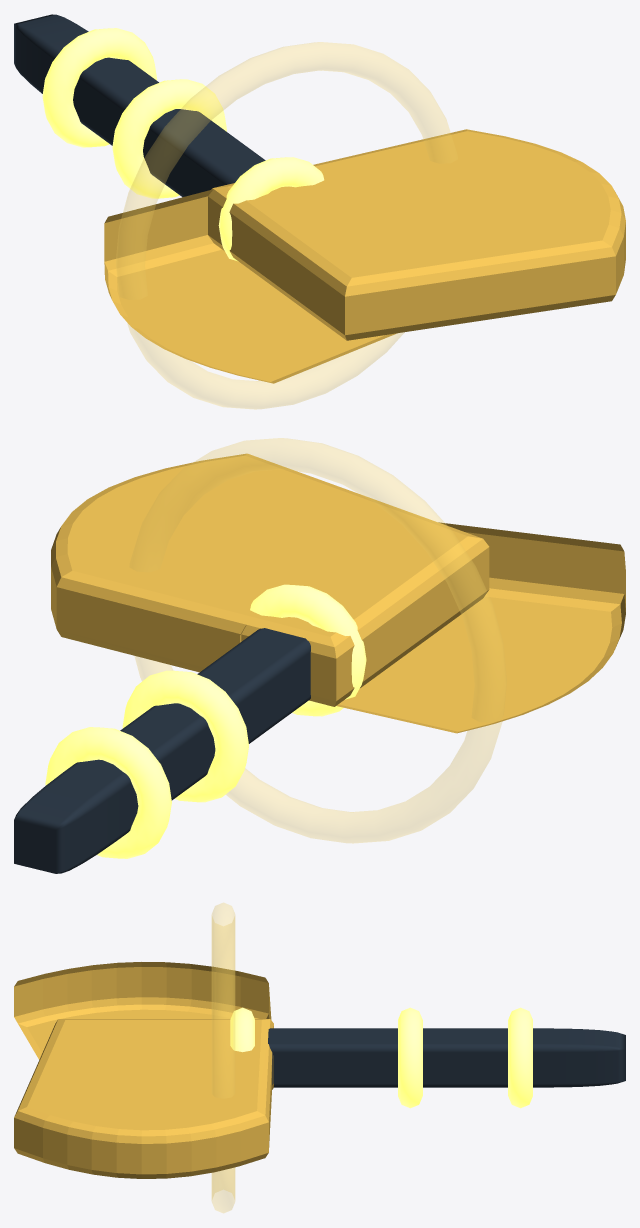
Rendered from axe-10.glb.
3 views of the same model, one above another, from view 1: azimuth 30°, elevation 25°; view 2: azimuth 150°, elevation 25°; view 3: azimuth 270°, elevation 25° (orthographic). The views are drawn at different scales.
Size of the model in its own units: 1.01 by 0.7475 by 1.47.
